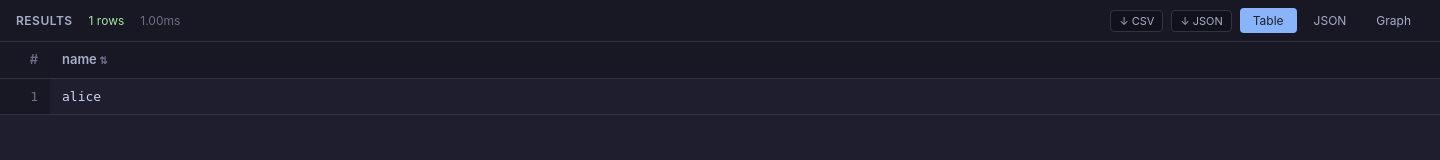
Test: ResultPanel › switches to JSON tree view
The image size is (1440, 160).
Click the button "JSON" at x=1330, y=20, box [1301, 8, 1359, 33]
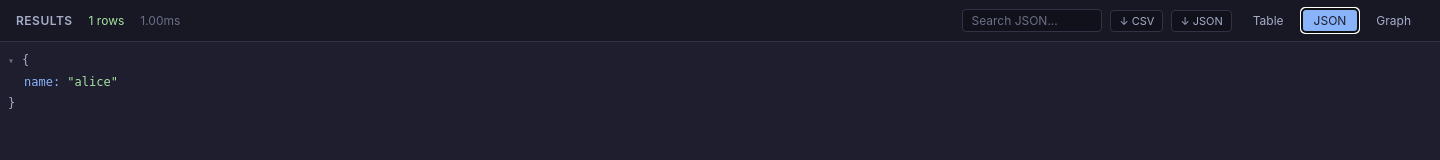
Now the field with test id "json-search" is shown, box [962, 9, 1102, 32]
Now the element with test id "json-node-root" is shown, box [8, 53, 29, 67]
